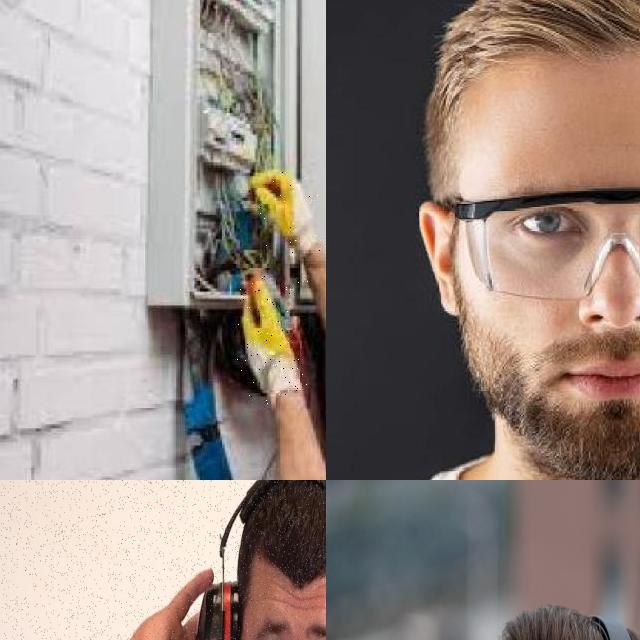Ear-protection: (188, 569, 326, 640)
No_Ear-Protection: (416, 202, 462, 318)
No_Glasses: (250, 606, 326, 640)
face_nomask: (458, 250, 640, 480)
glasses: (444, 189, 640, 299)
hand_glove: (242, 270, 302, 400), (250, 171, 316, 251)
head_nohelmet: (426, 0, 640, 196), (212, 480, 326, 609)
person: (0, 480, 326, 640)
